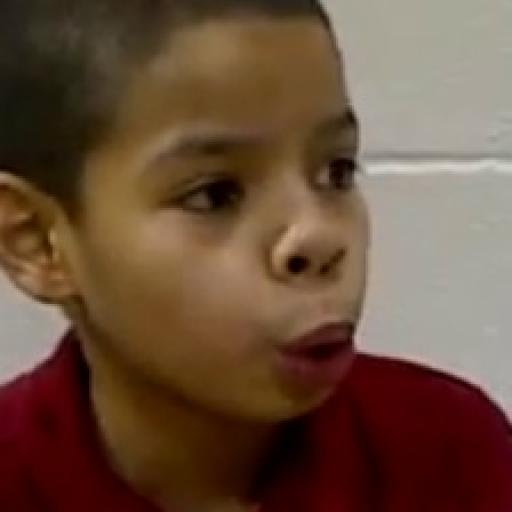Autism: (23, 9, 427, 432)
